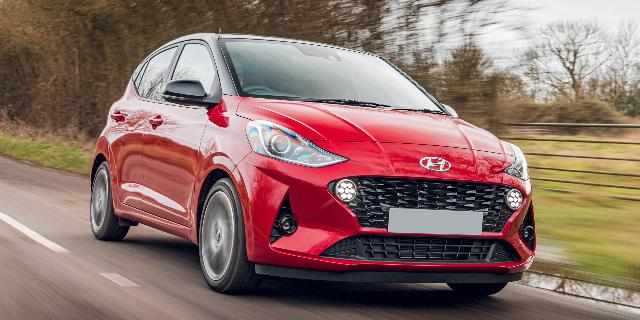hyundai: (90, 27, 536, 294)
